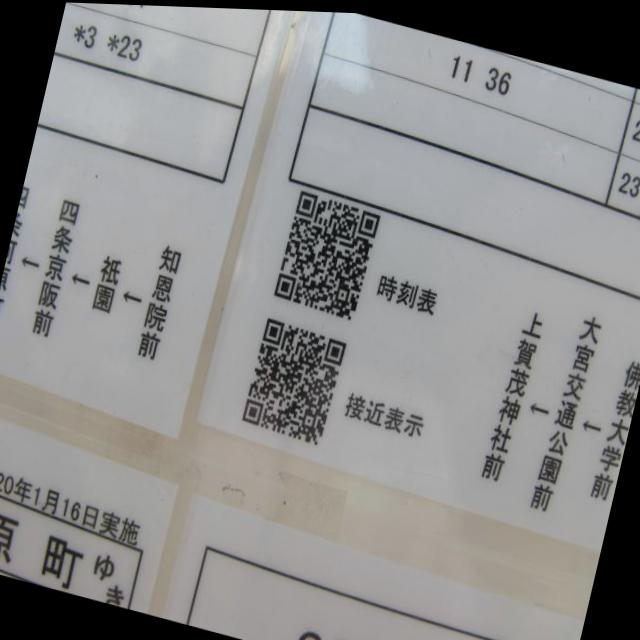qrcode: (274, 187, 382, 321), (242, 315, 348, 446)
